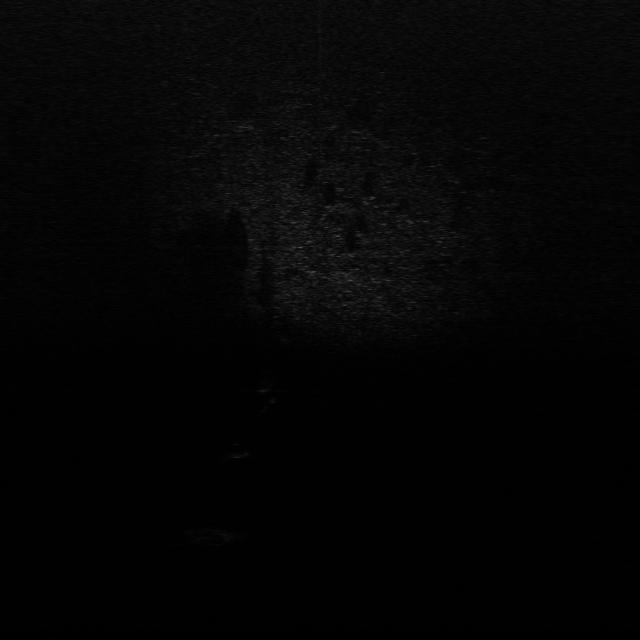ball: (226, 438, 250, 460)
circle cage: (178, 525, 243, 546)
human body: (257, 371, 282, 419)
